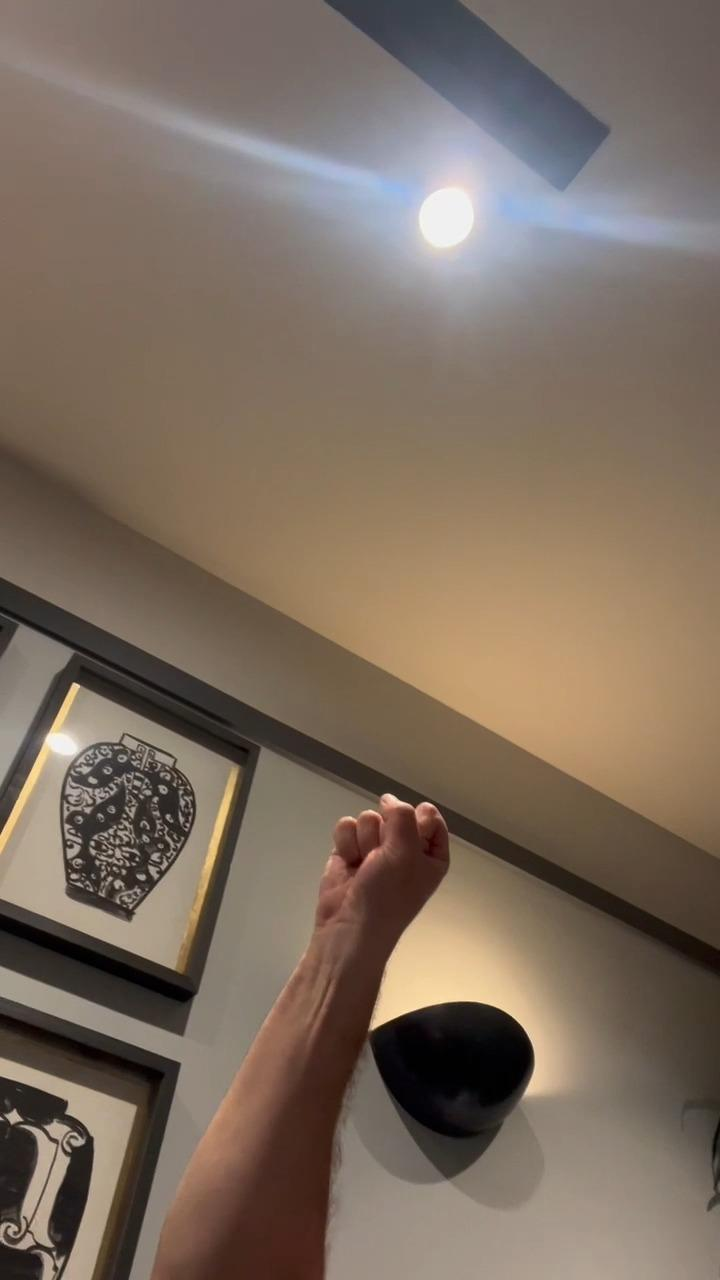Rock: (319, 792, 451, 929)
